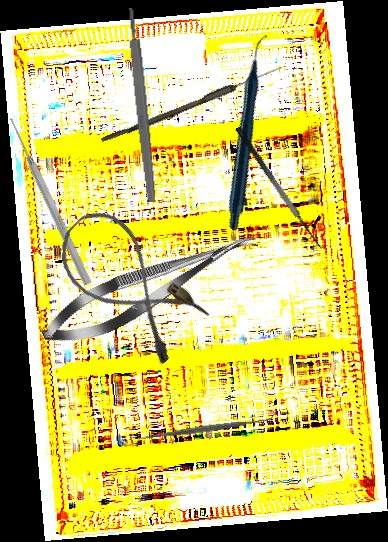Cannula: (44, 199, 214, 369)
Handpiece: (151, 33, 349, 233)
Micro Scissor: (33, 216, 266, 359)
Pusher: (5, 115, 94, 287)
Scalpel Handle: (125, 7, 158, 203)
Spatula Surgical: (234, 119, 332, 254), (133, 411, 279, 446)
Surgical Spoon: (100, 62, 284, 147)
